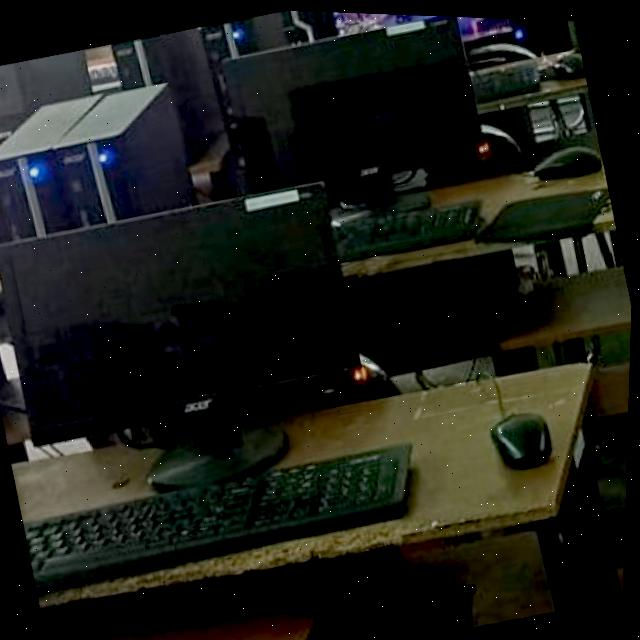offscreen: (0, 180, 364, 437), (231, 13, 490, 193)
